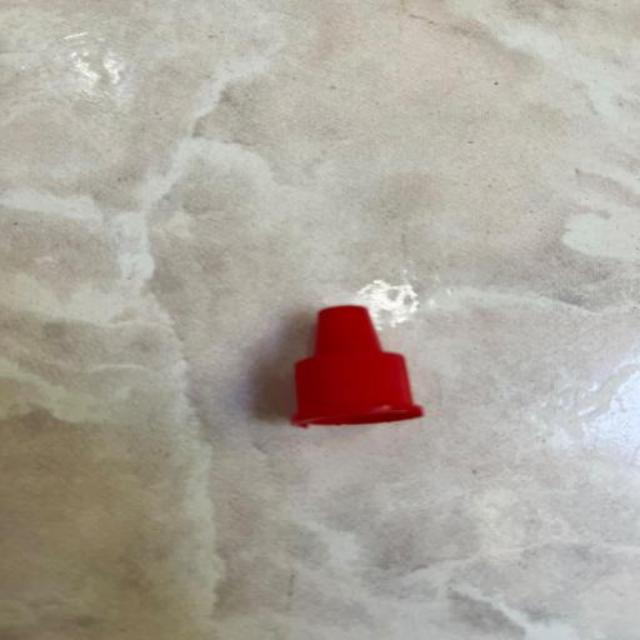HDPE: (225, 259, 485, 448)
